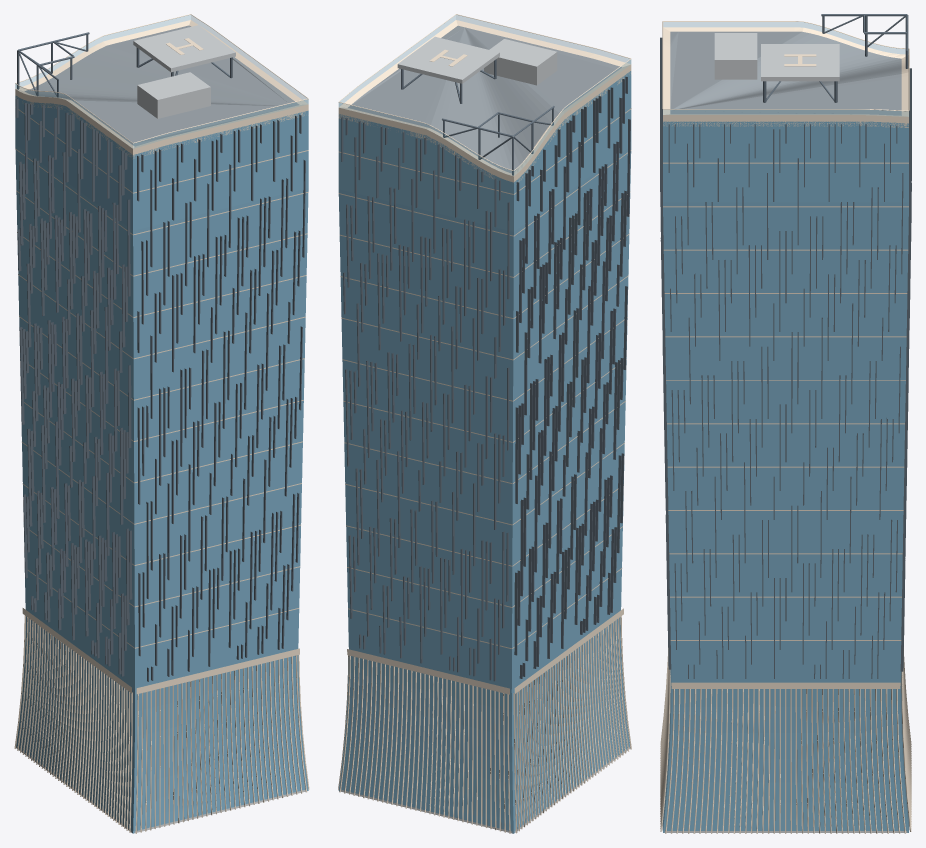
Rendered from tokyo-shibuya-scramble-square.detail.glb.
3 renders of one model, left to right at view 1: azimuth 30°, elevation 25°; view 2: azimuth 150°, elevation 25°; view 3: azimuth 270°, elevation 25°, orthographic. The views are drawn at different scales.
Parts seen in each view (by area): view 1: Shibuya Scramble Square; view 2: Shibuya Scramble Square; view 3: Shibuya Scramble Square.
Part boxes in pixels (x1,y1,x2,y2): Shibuya Scramble Square: (14,14,309,833); Shibuya Scramble Square: (338,14,631,833); Shibuya Scramble Square: (660,14,911,833).
Size of the model in its own units: 61 by 230 by 70.6.
